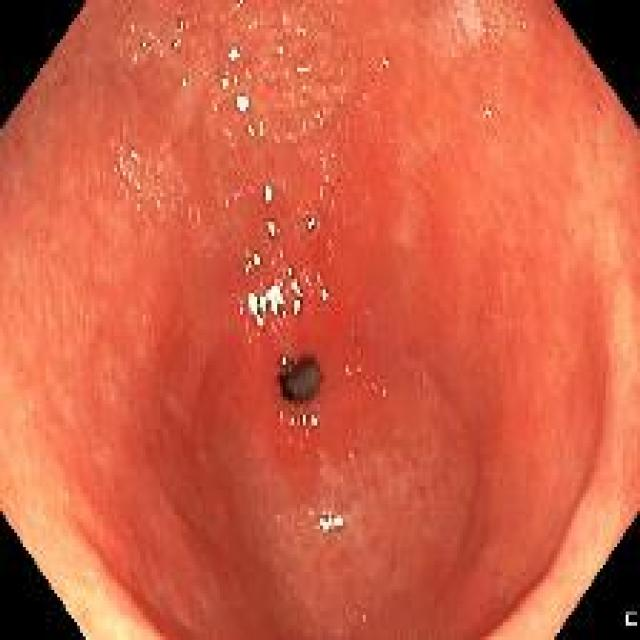bubbles: (480, 17, 493, 42), (502, 9, 516, 30), (492, 22, 505, 42), (518, 15, 529, 35)
saturation: (82, 581, 144, 639)
specularity: (244, 281, 289, 332), (285, 259, 306, 322), (314, 512, 352, 535), (238, 248, 265, 274), (231, 92, 253, 118), (246, 120, 268, 144), (265, 217, 280, 241), (262, 181, 274, 208), (295, 59, 312, 77), (216, 74, 232, 92), (176, 71, 192, 89), (174, 15, 188, 35), (226, 44, 241, 62), (168, 31, 182, 50), (481, 102, 494, 122), (302, 214, 318, 230), (127, 145, 139, 165), (298, 411, 311, 429), (318, 283, 330, 302), (378, 53, 391, 70), (341, 361, 353, 379), (274, 44, 288, 59), (317, 183, 326, 205), (124, 20, 138, 34), (137, 36, 149, 52), (307, 410, 318, 427), (288, 409, 299, 426), (276, 351, 288, 366), (304, 271, 313, 289), (358, 610, 367, 626), (231, 69, 240, 84), (280, 66, 289, 80)
